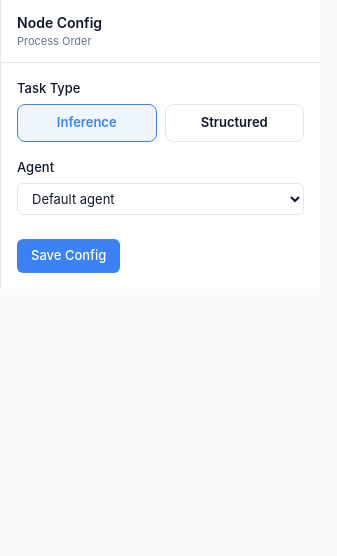
Test case: NodeConfigPanel › shows tool dropdown only when structured is selected
Expected: the text "Tool" is not shown
Click "Structured"
What coordinates should you click on to do the following:
click the button "Structured"
I would click on:
 (234, 123)
Its box is [164,104,304,142].
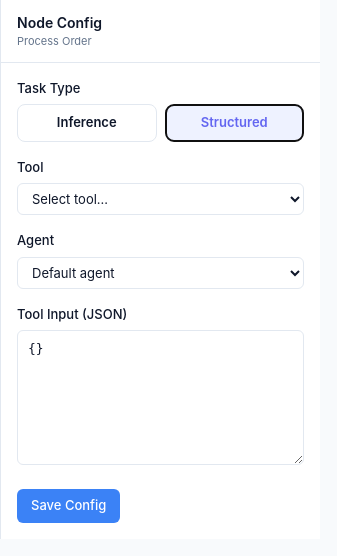
Expected: the text "Tool" is shown, [17,158,44,174]
